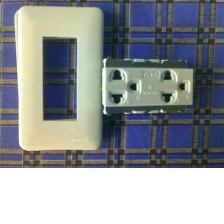three_eye_plug: (99, 54, 196, 118)
